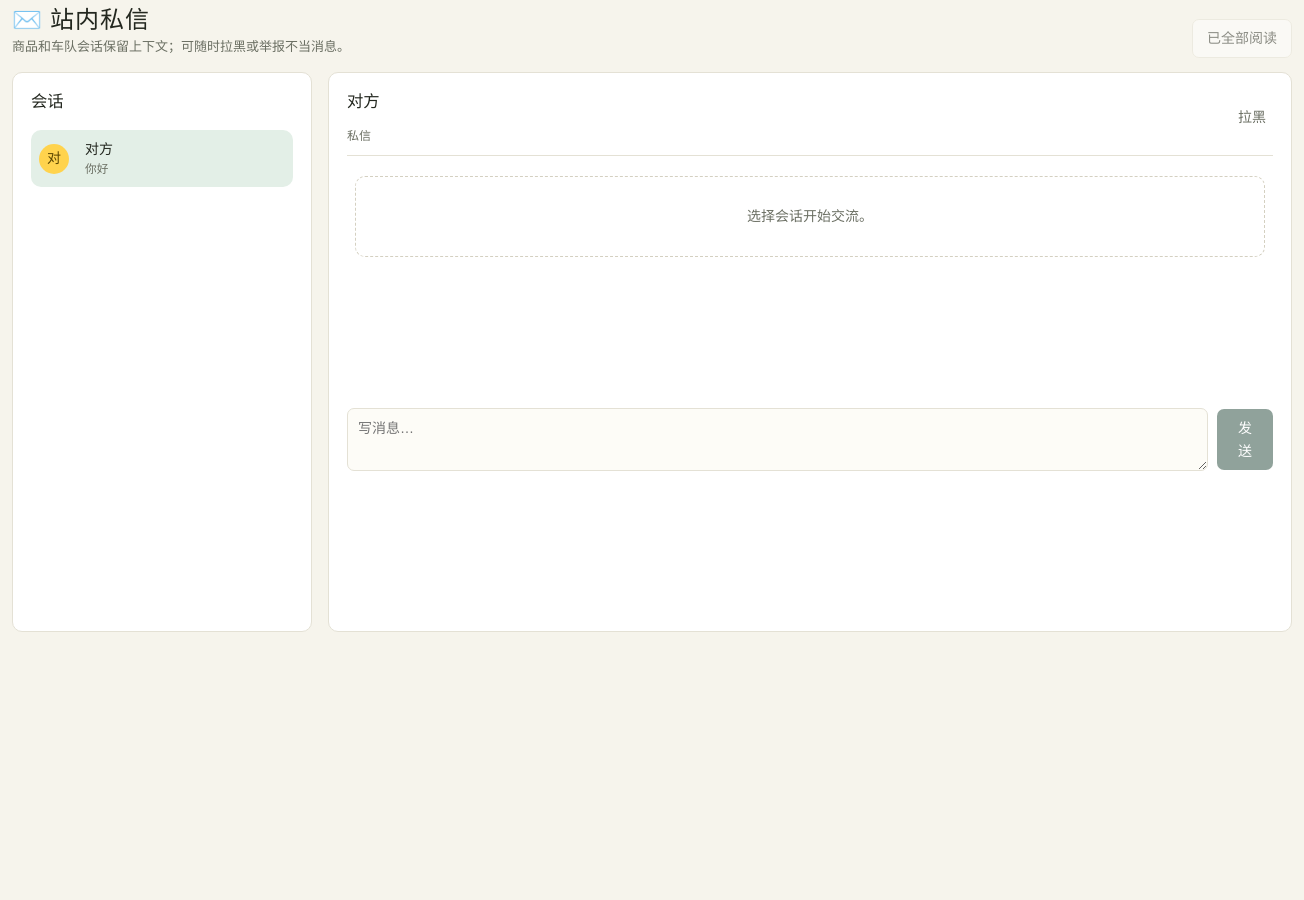
major views › toggles a conversation block and restores the composer
Click the button "拉黑": point(1252, 118) left=1231, top=102, right=1273, bottom=133
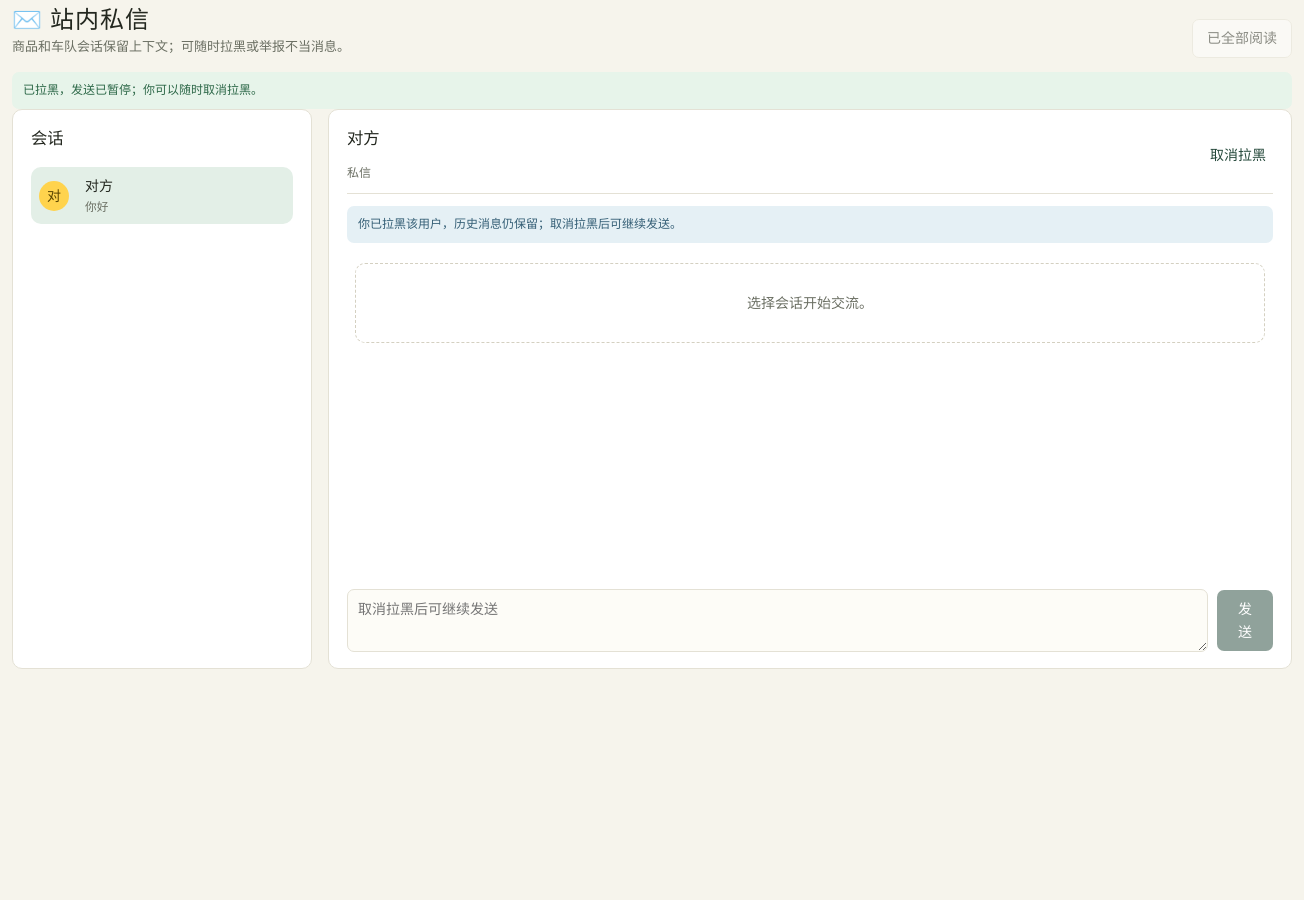
Now the button "取消拉黑" is shown
Now the text box with placeholder "取消拉黑后可继续发送" is disabled, box left=347, top=589, right=1208, bottom=652
Click the button "取消拉黑": point(1238, 155) left=1203, top=140, right=1273, bottom=170
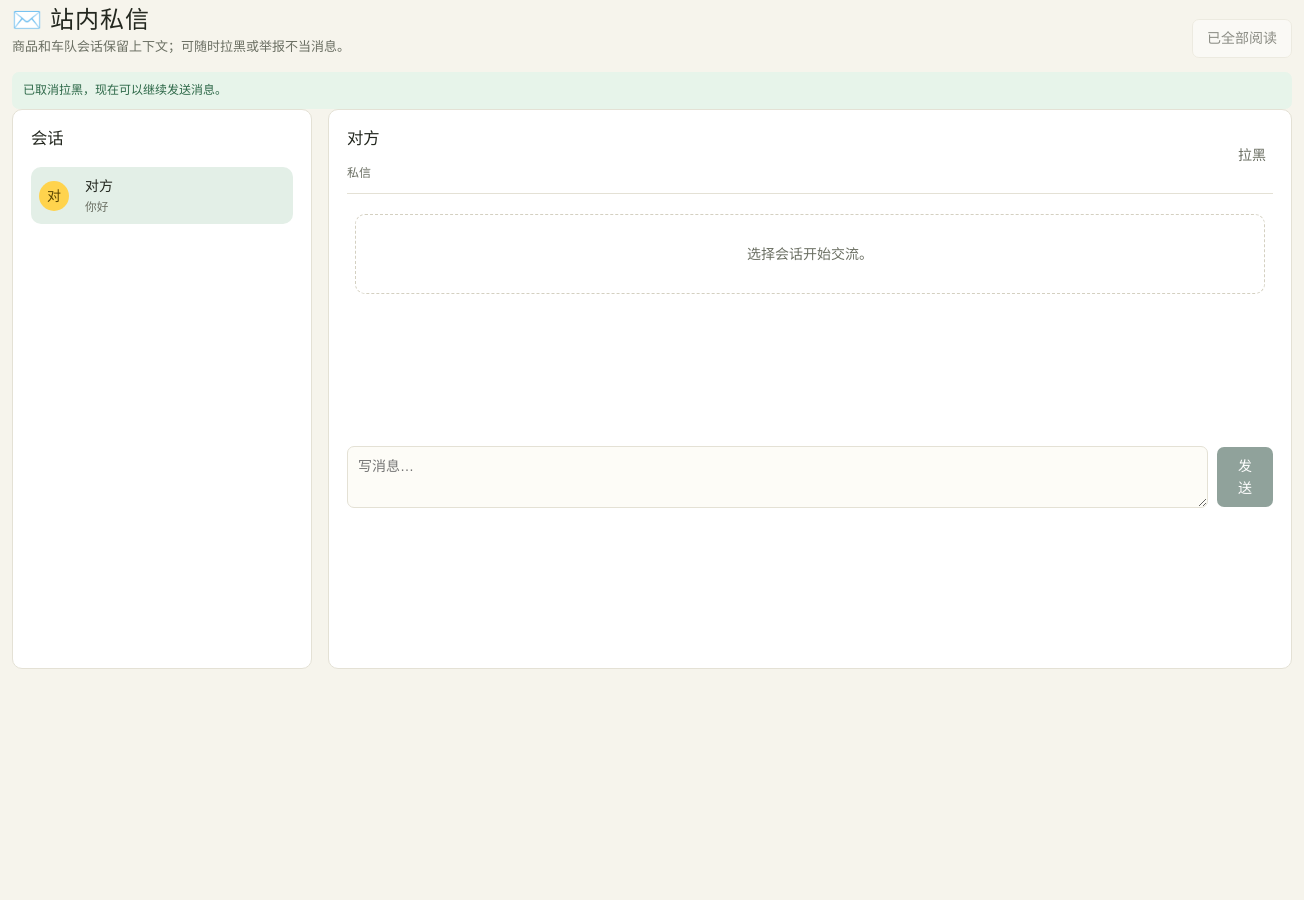
Now the button "拉黑" is shown, box left=1231, top=140, right=1273, bottom=170
Now the text box with placeholder "写消息…" is enabled, box left=347, top=446, right=1208, bottom=508
